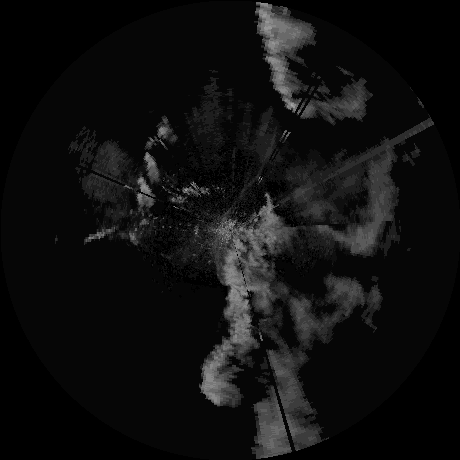frontgust: (231, 131, 277, 213)
